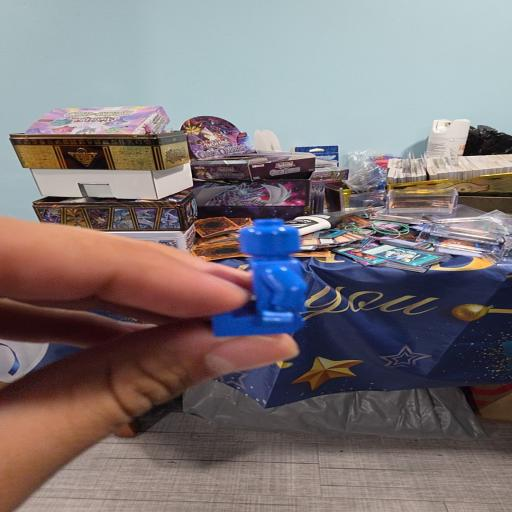Blue: (214, 219, 306, 335)
